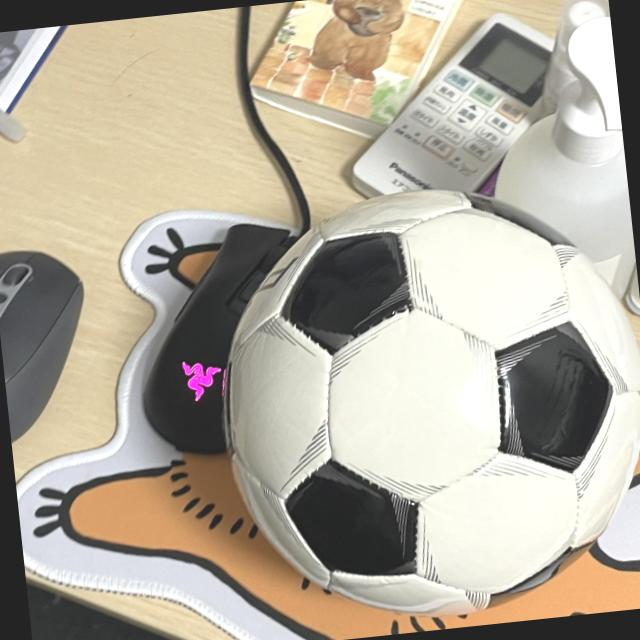Soccer Ball: (199, 166, 640, 640)
